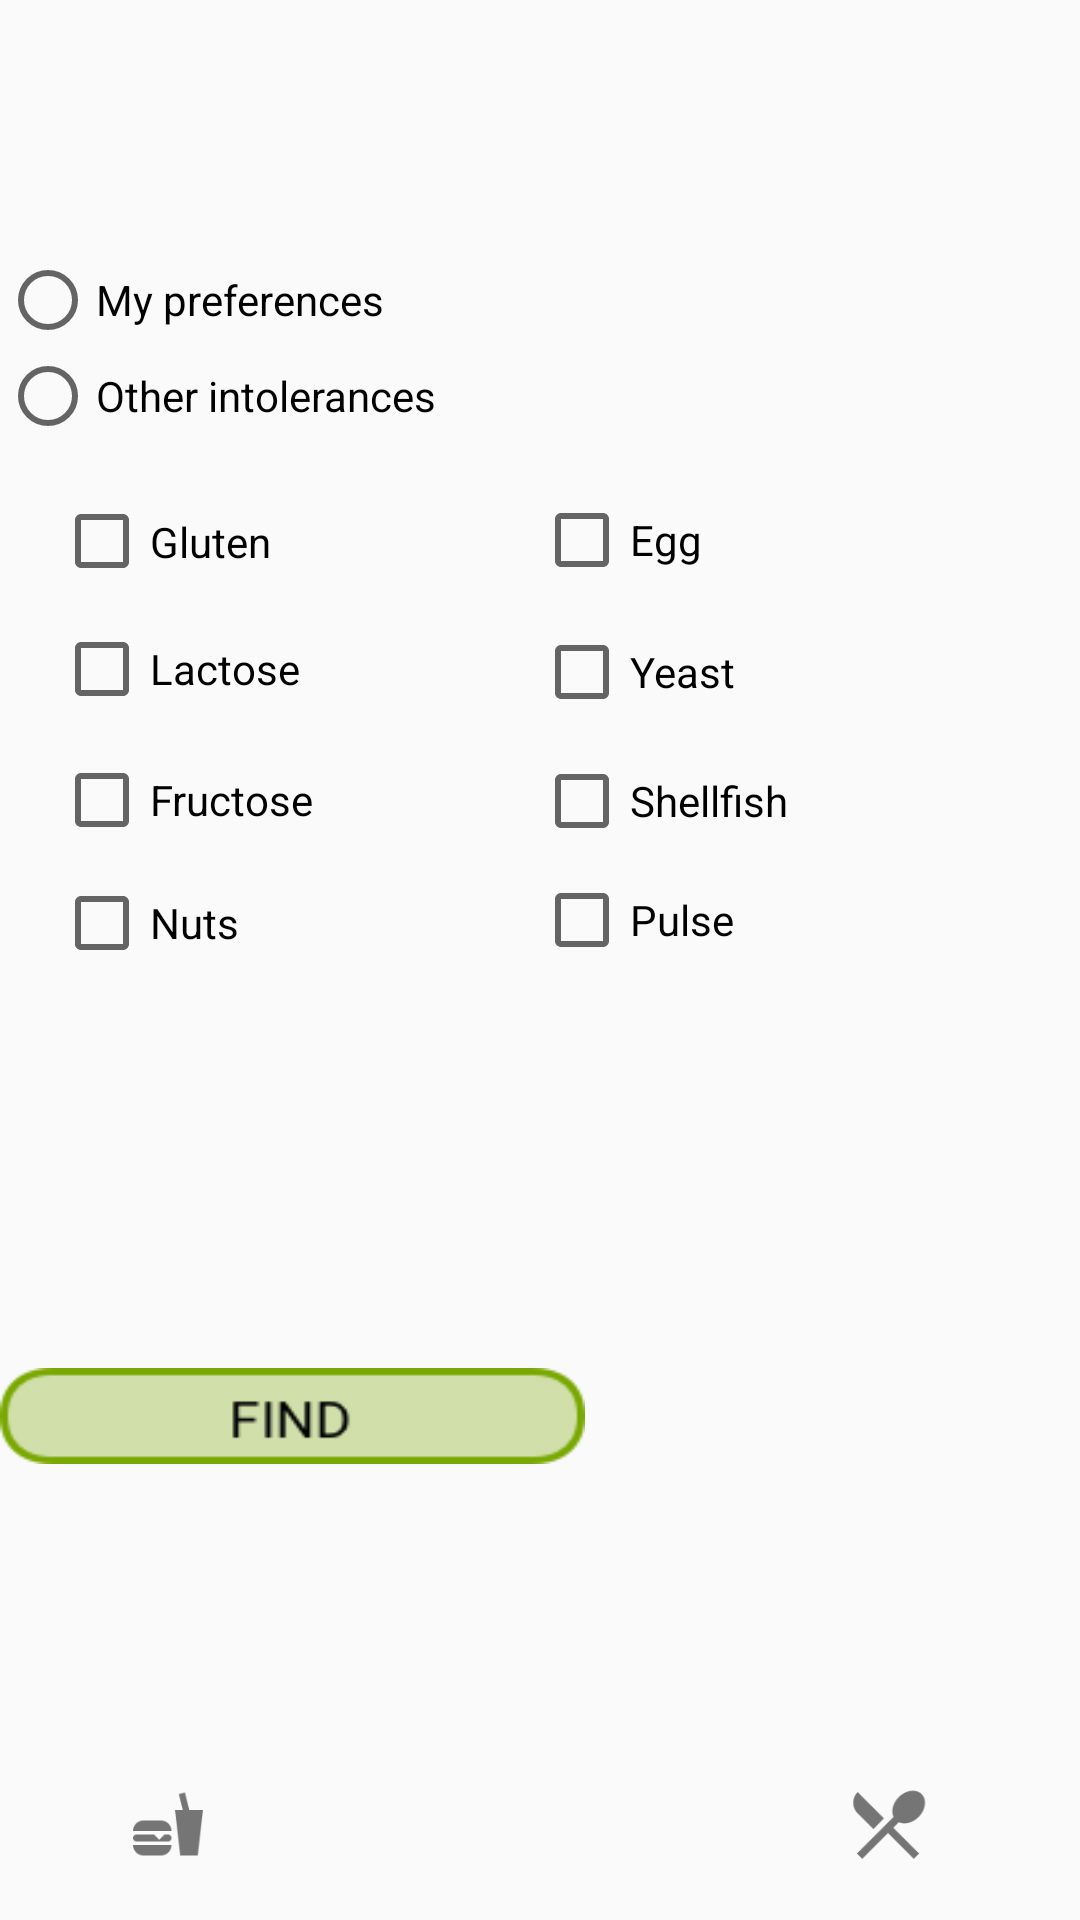

Named icons in this screenshot (1080*1920) and their bounding boxes, (x1, y1, x2, y2):
food: (133, 1792, 203, 1856)
silverware: (853, 1790, 926, 1859)
